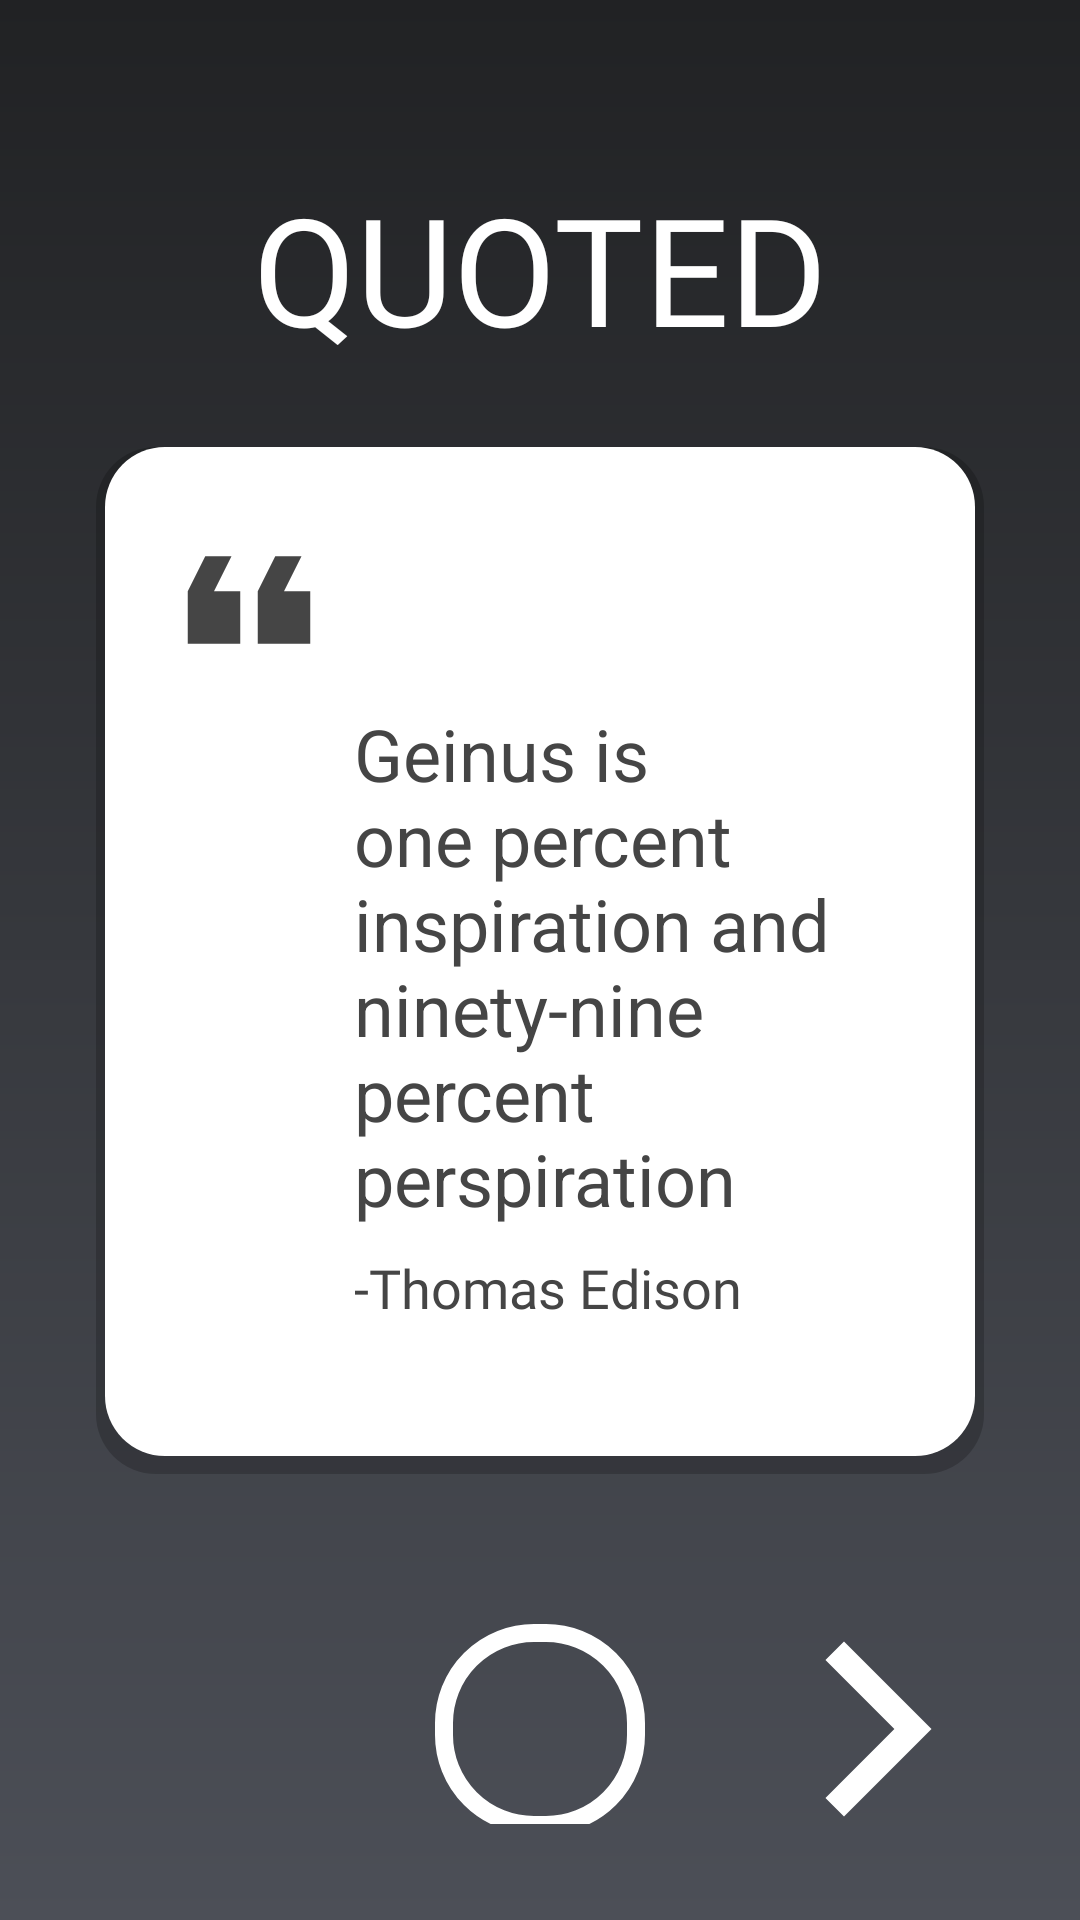

Locate icon controls on the screen. Image size 1080 × 1920, boxes as {"x1": x1, "y1": y1, "x2": x2, "y2": y2}.
next: {"x1": 825, "y1": 1642, "x2": 931, "y2": 1816}
